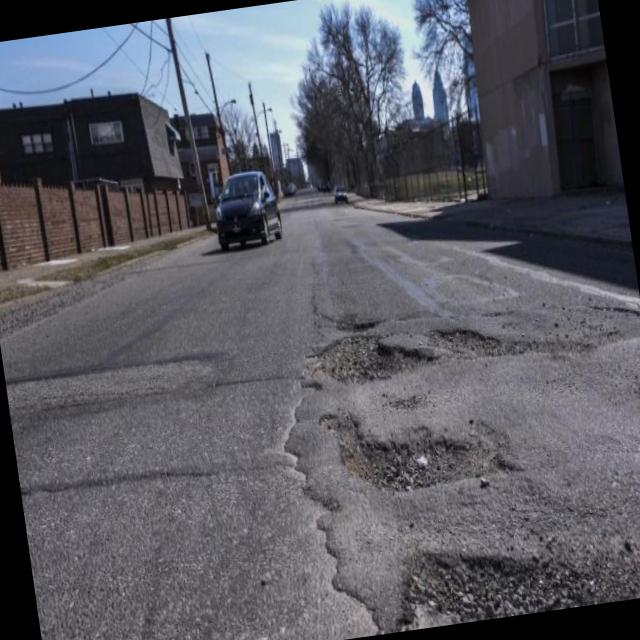bad-road: (317, 386, 526, 506), (388, 527, 598, 632), (306, 324, 433, 391), (432, 318, 504, 369), (332, 310, 378, 336), (623, 560, 640, 600)
